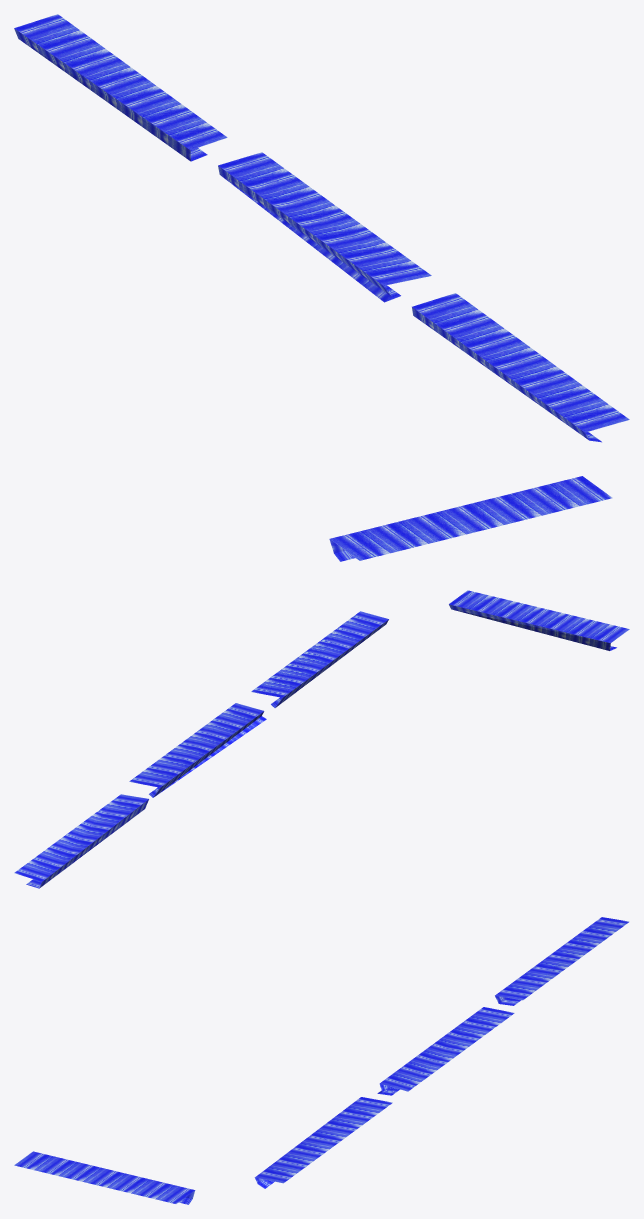
3 renders of one model, top to bottom at view 1: azimuth 30°, elevation 25°; view 2: azimuth 150°, elevation 25°; view 3: azimuth 330°, elevation 25°, orthographic. The views are drawn at different scales.
Size of the model in its own units: 0.4403 by 0.0183 by 1.4.
1 material, 1 textured.
